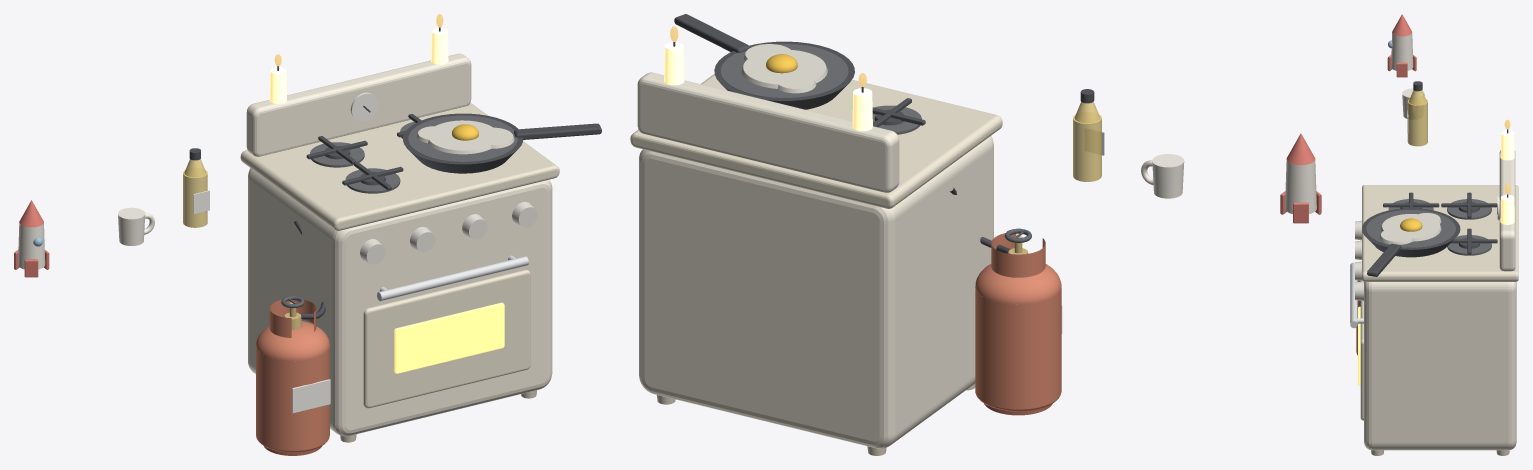
File: galley-props-arranged.glb
3 views of the same model, side by side, from view 1: azimuth 30°, elevation 25°; view 2: azimuth 150°, elevation 25°; view 3: azimuth 270°, elevation 25° (orthographic). The views are drawn at different scales.
Parts seen in each view (by area): view 1: stove, canister, pan, egg, rocket, bottle, mug; view 2: stove, canister, pan, egg, rocket, bottle, mug; view 3: stove, pan, egg, rocket, bottle, mug.
Boxes of the visible parts, bbox=[...] form: stove: bbox=[240, 14, 559, 442]; canister: bbox=[256, 220, 330, 455]; pan: bbox=[403, 113, 601, 173]; egg: bbox=[416, 120, 514, 154]; rocket: bbox=[14, 200, 49, 277]; bottle: bbox=[183, 148, 209, 227]; mug: bbox=[118, 207, 154, 245]; stove: bbox=[630, 26, 1002, 455]; canister: bbox=[949, 187, 1062, 415]; pan: bbox=[674, 14, 854, 109]; egg: bbox=[741, 44, 827, 93]; rocket: bbox=[1280, 133, 1321, 223]; bottle: bbox=[1073, 89, 1104, 181]; mug: bbox=[1141, 154, 1184, 198]; stove: bbox=[1350, 119, 1518, 455]; pan: bbox=[1362, 208, 1460, 276]; egg: bbox=[1380, 213, 1441, 244]; rocket: bbox=[1387, 14, 1416, 77]; bottle: bbox=[1407, 81, 1427, 146]; mug: bbox=[1402, 88, 1424, 118].
Size of the model in its own units: 2.38 by 1.31 by 0.752.
